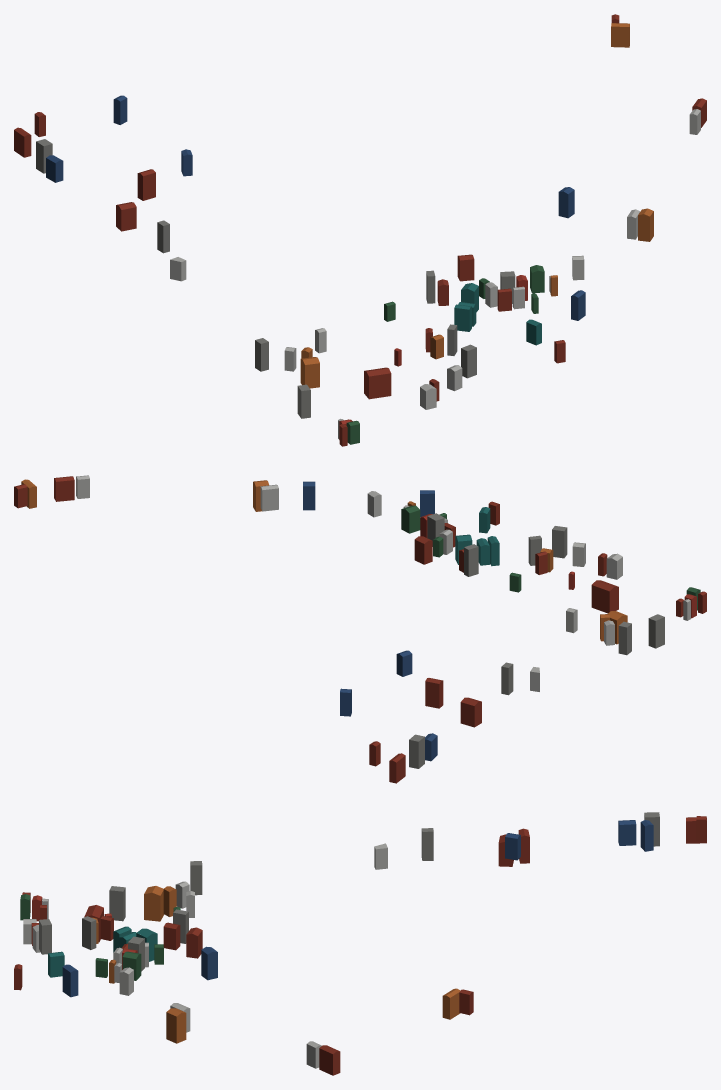
Rendered from near-16-54723-29731.d4cbda59.glb.
3 views of the same model, one above another, from view 1: azimuth 30°, elevation 25°; view 2: azimuth 150°, elevation 25°; view 3: azimuth 270°, elevation 25° (orthographic). The views are drawn at different scales.
Size of the model in its own units: 469 by 141 by 506.
